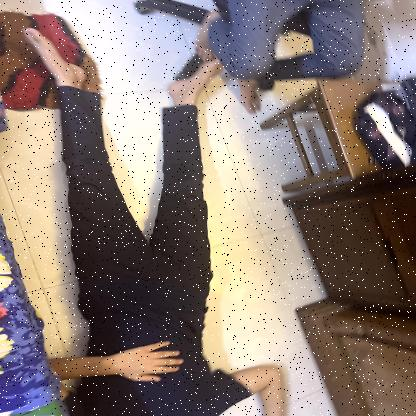hand: (48, 336, 192, 390)
leg: (14, 22, 121, 197), (146, 51, 226, 211)
